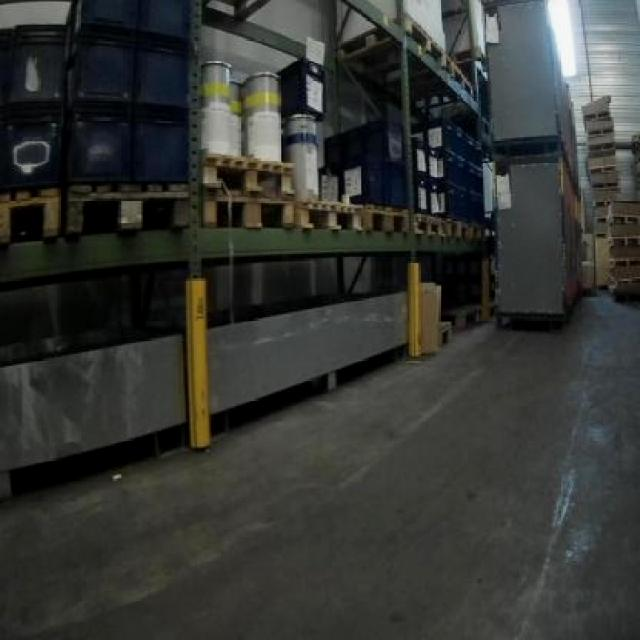floor: (0, 294, 637, 637)
pallets: (494, 155, 575, 320), (580, 94, 637, 297)
